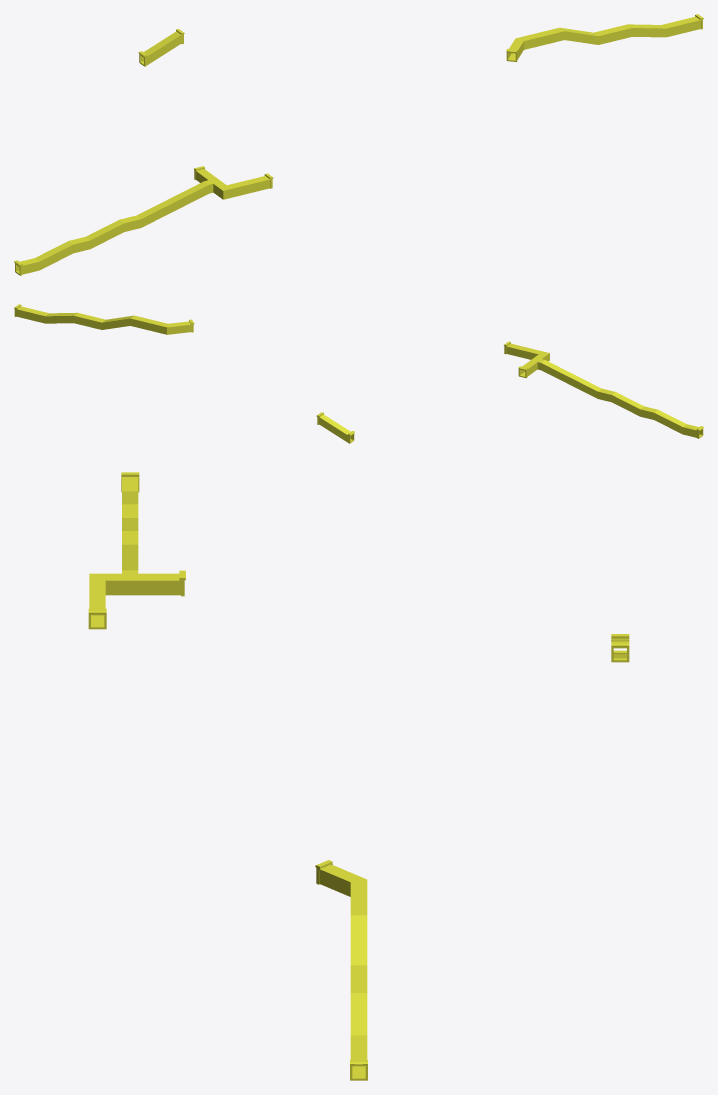
The model's file is Encounter_002_Vent.fbx.
The picture shows the model from 3 angles, top to bottom: view 1: azimuth 30°, elevation 25°; view 2: azimuth 150°, elevation 25°; view 3: azimuth 270°, elevation 25°; orthographic projection. The views are drawn at different scales.
Visible parts, largest first — view 1: Encounter_002_Vents; view 2: Encounter_002_Vents; view 3: Encounter_002_Vents.
Boxes of the visible parts, box(x1,y1,x2,y2) form: Encounter_002_Vents: box(14, 14, 703, 275); Encounter_002_Vents: box(14, 304, 703, 443); Encounter_002_Vents: box(88, 472, 629, 1080).
Bounding box in the file's own units: 8884 × 674 × 3309.
